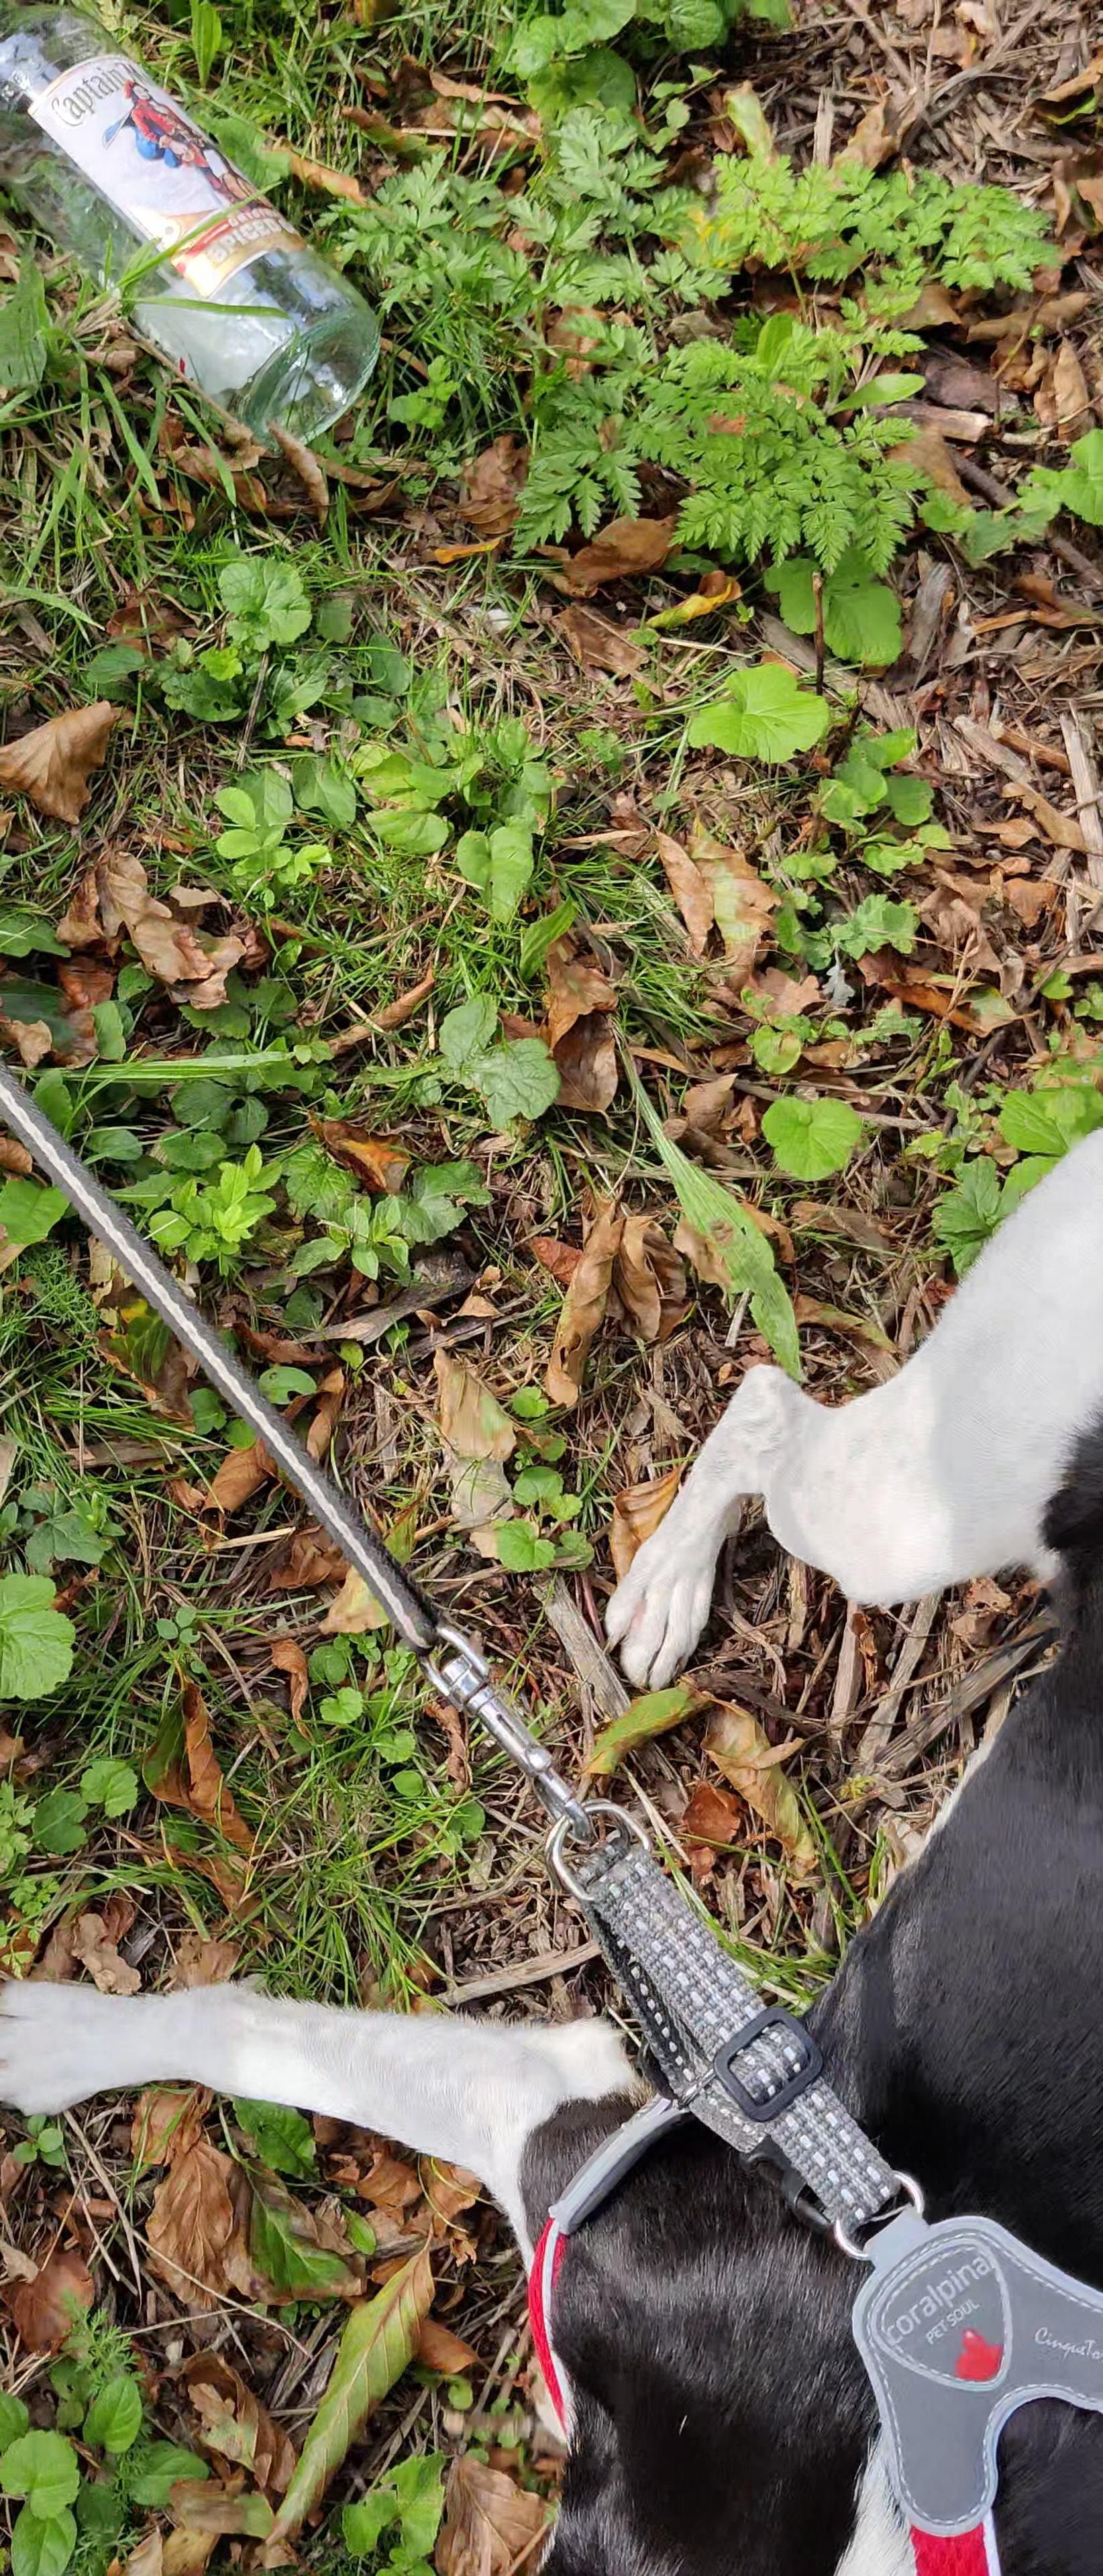Dog: (0, 1120, 1103, 2576)
